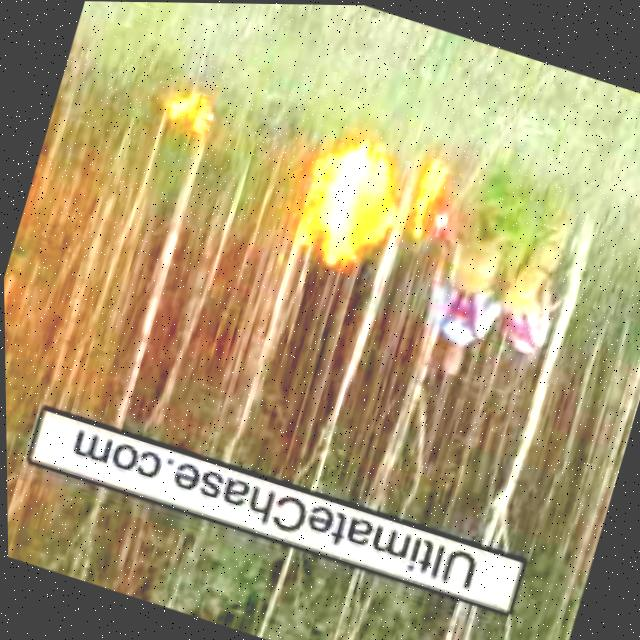Fire: (285, 122, 416, 281), (394, 152, 468, 250), (158, 84, 215, 137)
